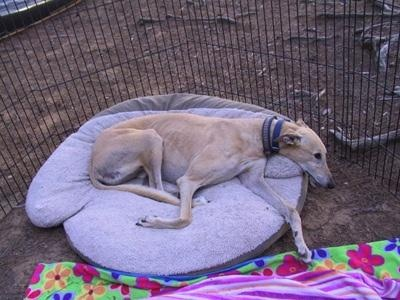dog: (87, 113, 335, 269)
